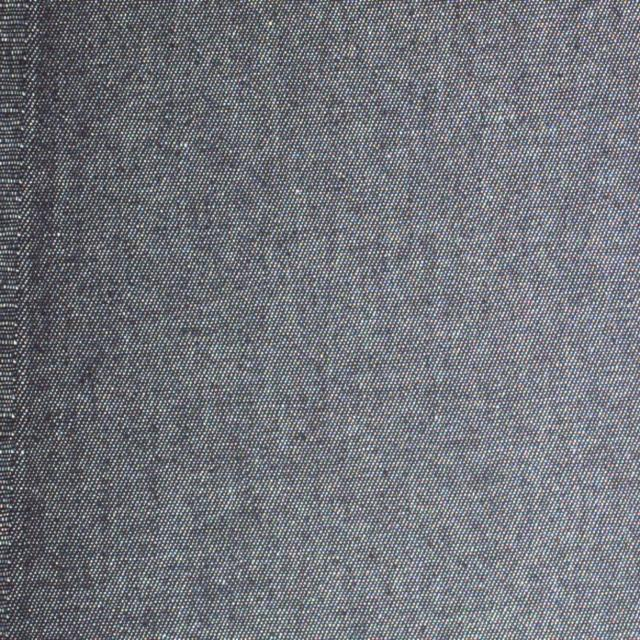Warp_Weft: (0, 0, 41, 638)
